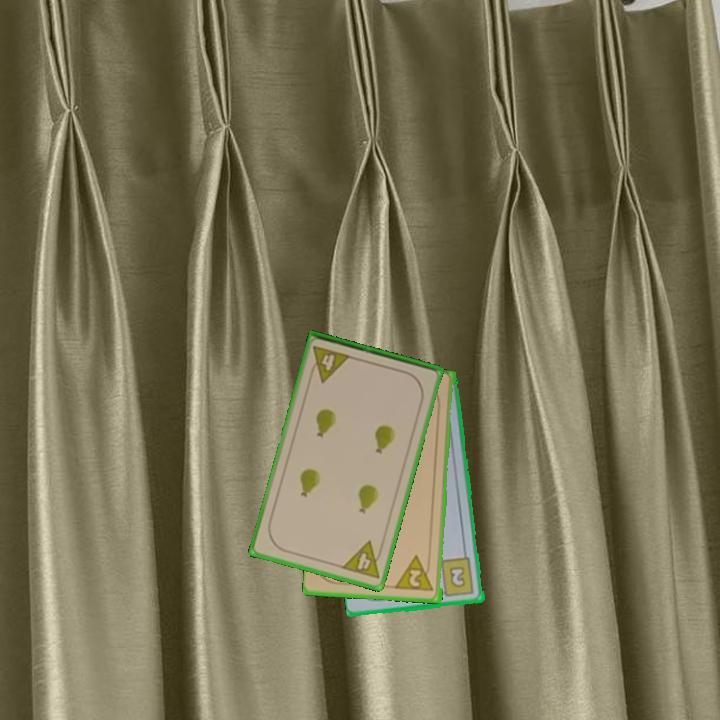2b: (435, 555, 477, 600)
2p: (393, 553, 437, 594)
4p: (338, 537, 387, 582), (306, 342, 354, 385)
